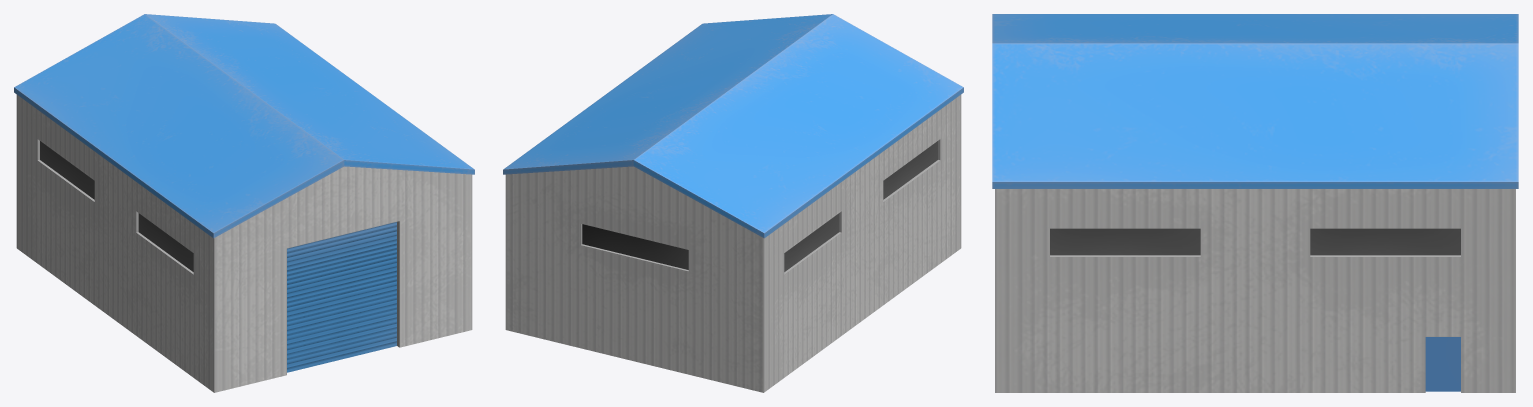
The model's file is SM_Warehouse.fbx.
The picture shows the model from 3 angles, left to right: view 1: azimuth 30°, elevation 25°; view 2: azimuth 150°, elevation 25°; view 3: azimuth 270°, elevation 25°; orthographic projection. The views are drawn at different scales.
Parts seen in each view (by area): view 1: SM_Warehouse; view 2: SM_Warehouse; view 3: SM_Warehouse.
Part boxes in pixels (x1,y1,x2,y2): SM_Warehouse: (14, 14, 474, 392); SM_Warehouse: (503, 14, 963, 392); SM_Warehouse: (992, 14, 1518, 392).
Size of the model in its own units: 1236 by 914 by 1634.
